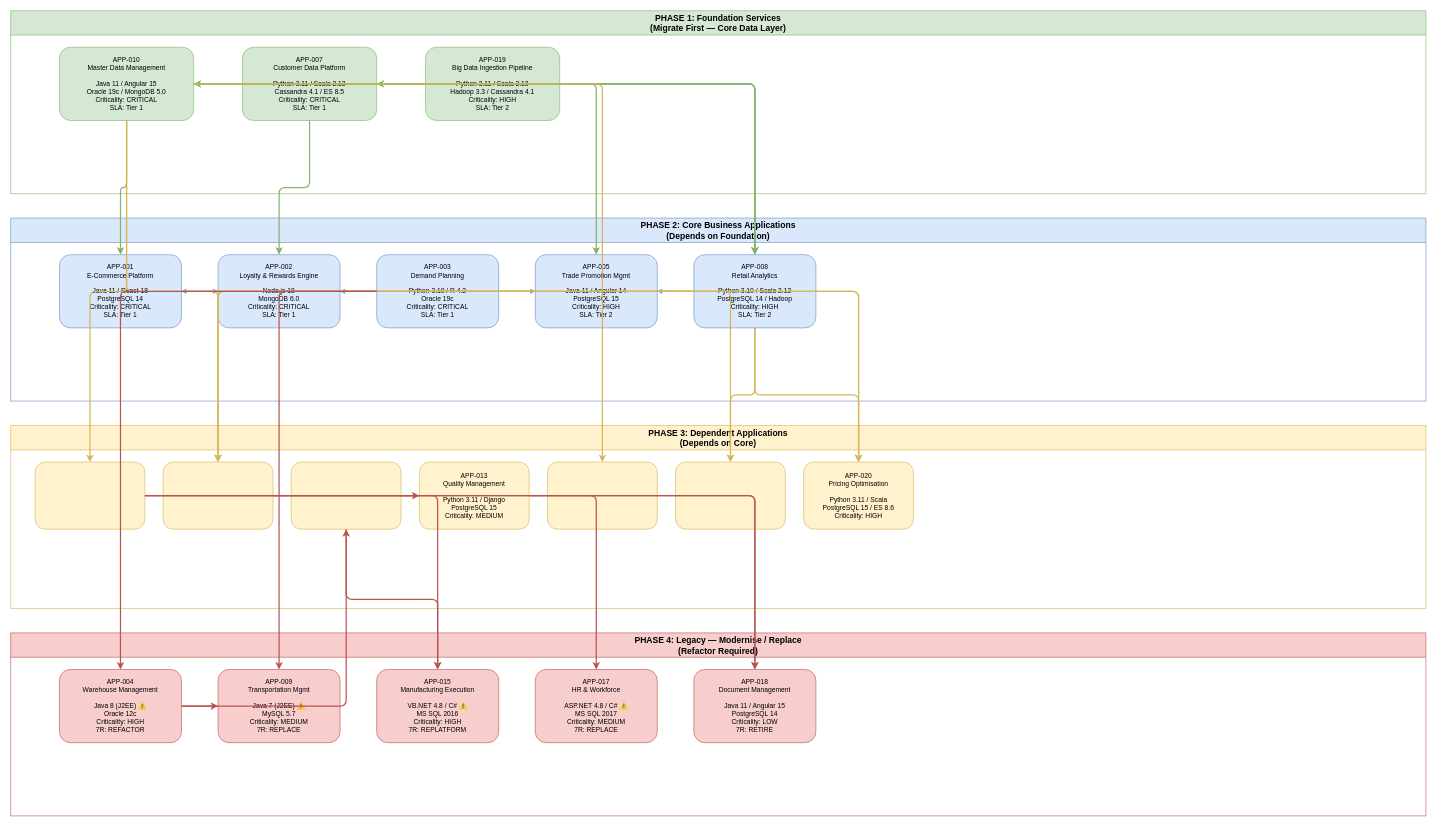
The diagram is 1437 pixels wide and 827 high, and some of its shapes have lost their labels. Each missing label, with the centre of its shape:
APP-006 Product Lifecycle Mgmt .NET 6 / C# MS SQL 2019 Criticality: HIGH: the point at 89,495
APP-011 Financial Planning Java 11 / Groovy MS SQL 2019 Criticality: HIGH: the point at 218,495
APP-012 Inventory Optimisation Python 3.10 / R 4.2 MySQL 8.0 Criticality: HIGH: the point at 346,495
APP-014 Procurement Portal Node.js 20 / React 18 MongoDB 6.0 Criticality: MEDIUM: the point at 602,495
APP-016 Store Operations Python 3.11 / FastAPI PostgreSQL 15 Criticality: LOW: the point at 730,495
